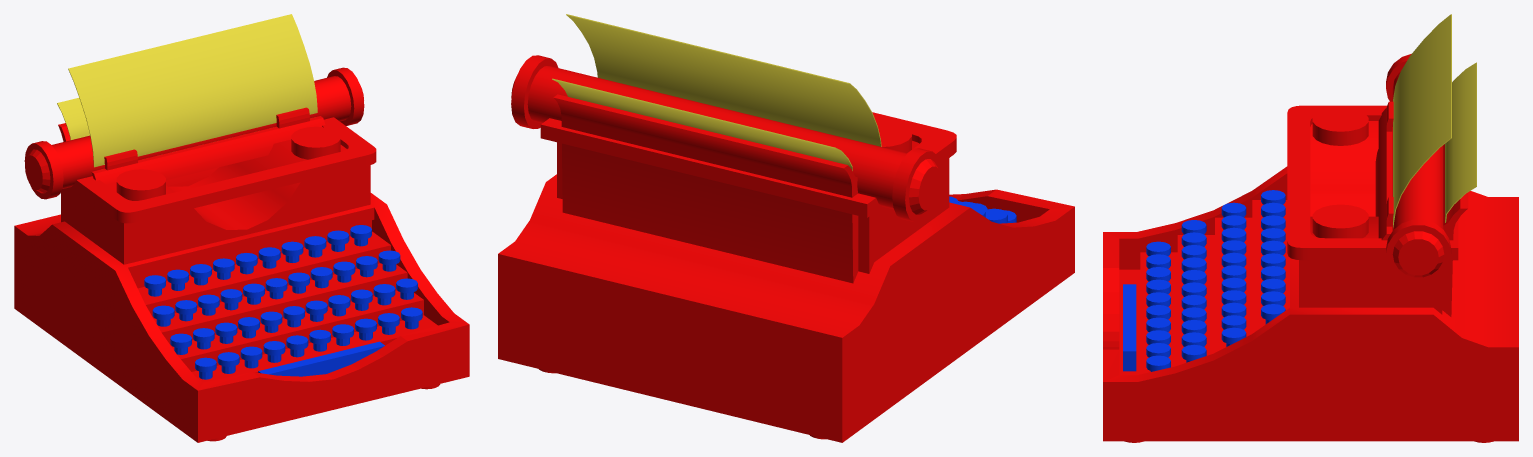
The model's file is TypeWriter.FBX.
The picture shows the model from 3 angles, left to right: view 1: azimuth 30°, elevation 25°; view 2: azimuth 150°, elevation 25°; view 3: azimuth 270°, elevation 25°; orthographic projection. The views are drawn at different scales.
Parts seen in each view (by area): view 1: TypeWriter, Paper, PaperRoller, Space; view 2: TypeWriter, Paper, PaperRoller; view 3: TypeWriter, Paper, PaperRoller, Space.
Part boxes in pixels (<box>): TypeWriter: <box>14,107,469,442</box>; Paper: <box>57,14,317,167</box>; PaperRoller: <box>24,67,364,199</box>; Space: <box>258,341,384,376</box>; TypeWriter: <box>498,94,1074,442</box>; Paper: <box>552,14,881,170</box>; PaperRoller: <box>511,55,941,222</box>; TypeWriter: <box>1103,101,1518,442</box>; Paper: <box>1393,14,1476,227</box>; PaperRoller: <box>1386,54,1451,283</box>; Space: <box>1123,284,1136,371</box>.
Bounding box in the file's own units: 0.5831 × 0.4611 × 0.5766.
